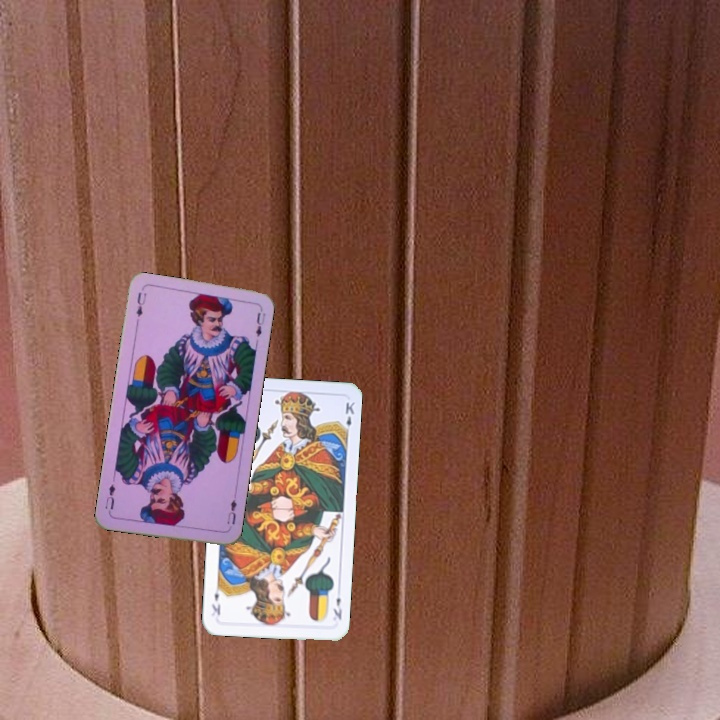EK: (329, 593, 344, 622)
EU: (132, 288, 149, 327), (223, 491, 239, 527)
